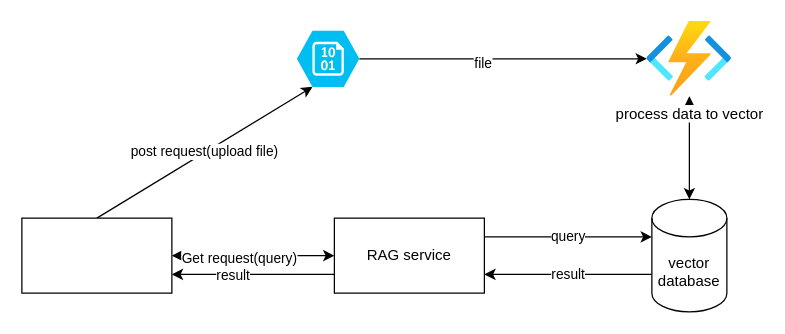
Some shapes in this 785 by 334 pixel diagram are drawn without their labels. Each missing label, with the centre of its shape:
"blob storage" belongs at (327,58).
"client" belongs at (96,255).
